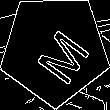M_NW: (22, 16, 87, 83)
